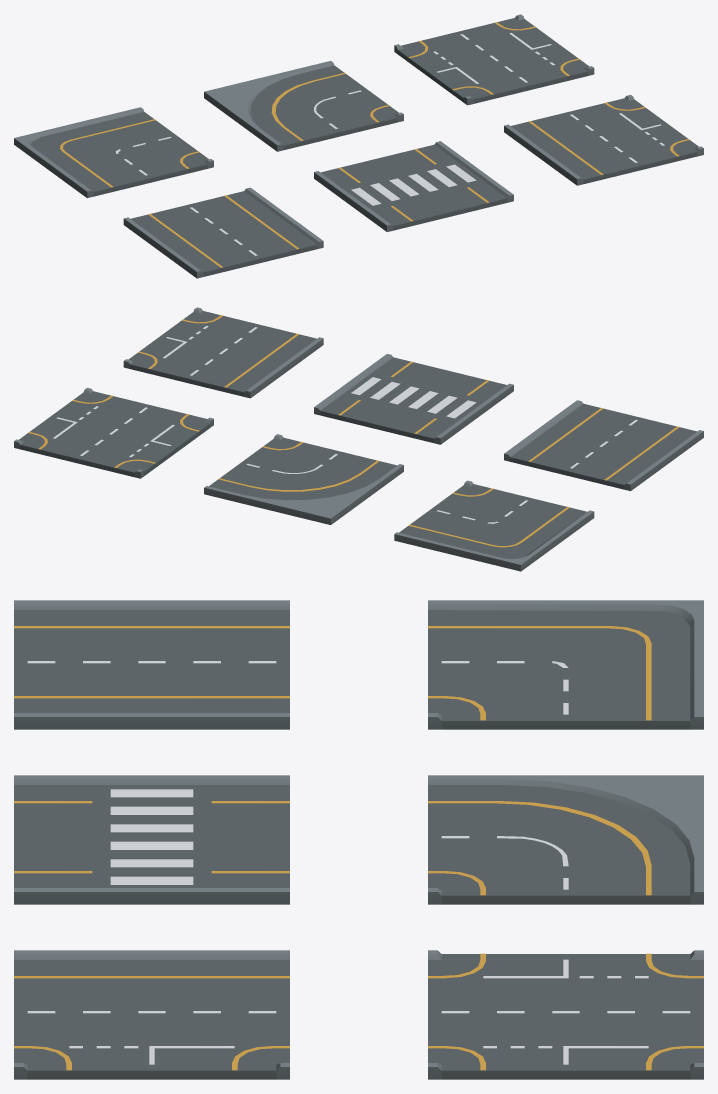
Rendered from road-bits.glb.
3 views of the same model, one above another, from view 1: azimuth 30°, elevation 25°; view 2: azimuth 150°, elevation 25°; view 3: azimuth 270°, elevation 25° (orthographic). The views are drawn at different scales.
Parts seen in each view (by area): view 1: road_corner, road_corner_curved, road_straight, road_straight_crossing, road_junction, road_tsplit; view 2: road_straight, road_straight_crossing, road_tsplit, road_corner, road_corner_curved, road_junction; view 3: road_corner, road_corner_curved, road_straight, road_straight_crossing, road_tsplit, road_junction.
Boxes of the visible parts, x1=… form: road_corner: x1=14, y1=107, x2=213, y2=198; road_corner_curved: x1=204, y1=61, x2=403, y2=151; road_straight: x1=123, y1=187, x2=323, y2=278; road_straight_crossing: x1=314, y1=141, x2=513, y2=231; road_junction: x1=394, y1=14, x2=594, y2=105; road_tsplit: x1=504, y1=94, x2=703, y2=185; road_straight: x1=504, y1=400, x2=703, y2=491; road_straight_crossing: x1=314, y1=354, x2=513, y2=444; road_tsplit: x1=123, y1=307, x2=323, y2=398; road_corner: x1=394, y1=480, x2=594, y2=571; road_corner_curved: x1=204, y1=434, x2=403, y2=524; road_junction: x1=14, y1=387, x2=213, y2=478; road_corner: x1=428, y1=600, x2=703, y2=729; road_corner_curved: x1=428, y1=775, x2=703, y2=904; road_straight: x1=14, y1=600, x2=289, y2=729; road_straight_crossing: x1=14, y1=775, x2=289, y2=904; road_tsplit: x1=14, y1=950, x2=289, y2=1079; road_junction: x1=428, y1=950, x2=703, y2=1079.
Size of the model in its own units: 8 by 0.1001 by 5.
1 material, 1 textured.
